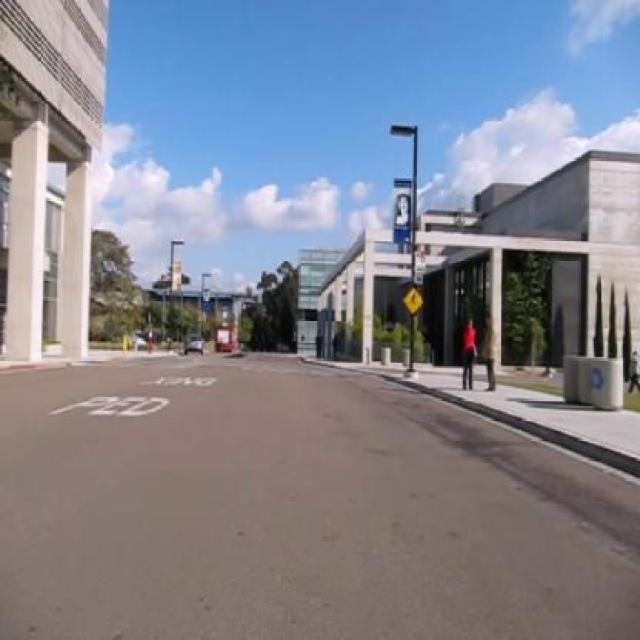pedestrianCrossing: (401, 286, 424, 316)
